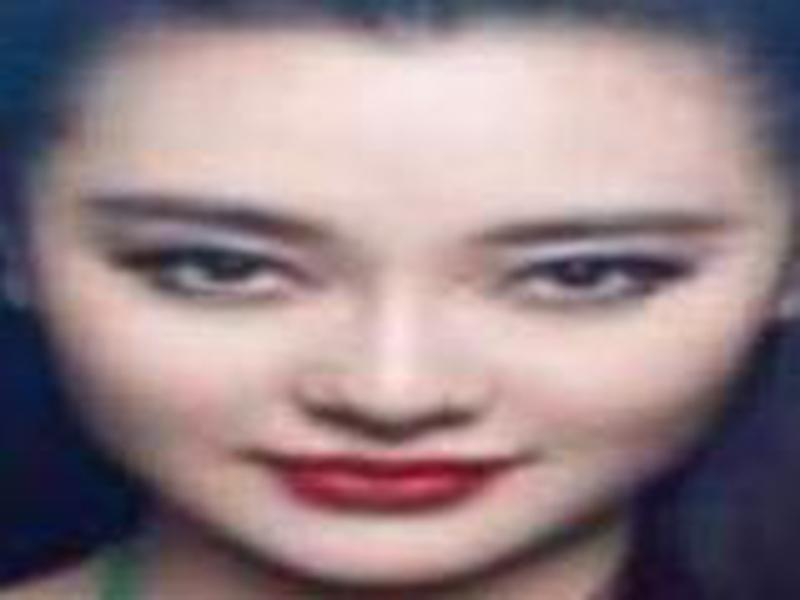without_mask: (25, 27, 774, 585)
